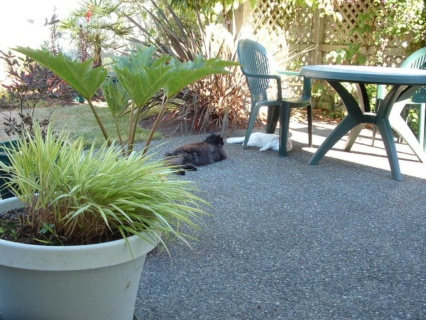Cat: (161, 133, 225, 177), (225, 132, 294, 151)
